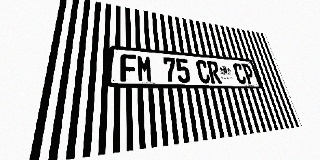5: (175, 58, 191, 83)
7: (162, 57, 178, 83)
C: (195, 60, 211, 83), (232, 63, 247, 84)
F: (120, 54, 137, 82)
M: (137, 55, 153, 82)
P: (241, 63, 256, 84)
R: (207, 61, 222, 83)
